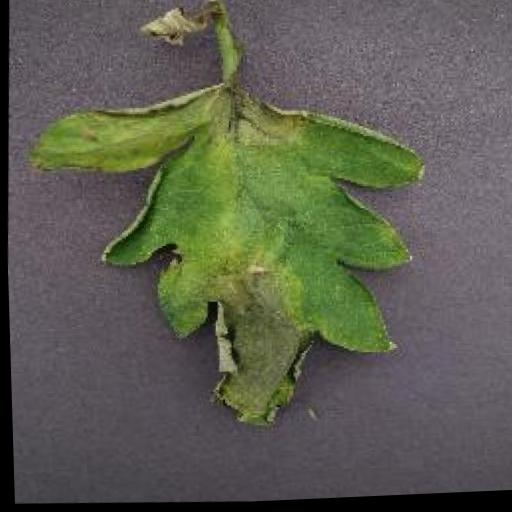Late Blight: (22, 74, 428, 443)
